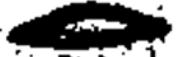Mouth: (5, 2, 176, 52)
